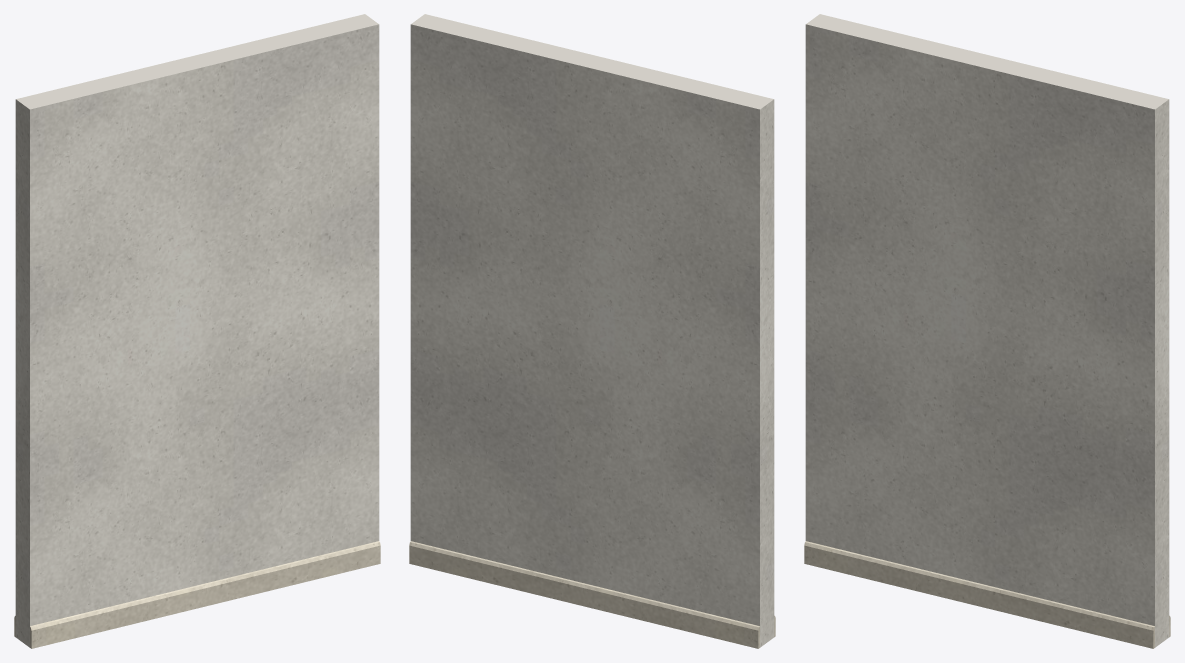
Rendered from iw_plain.glb.
3 views of the same model, side by side, from view 1: azimuth 30°, elevation 25°; view 2: azimuth 150°, elevation 25°; view 3: azimuth 330°, elevation 25° (orthographic).
Parts seen in each view (by area): view 1: iw_plain_plaster, iw_plain_trim; view 2: iw_plain_plaster, iw_plain_trim; view 3: iw_plain_plaster, iw_plain_trim.
Part boxes in pixels (x1,y1,x2,y2): iw_plain_plaster: (15, 14, 379, 647); iw_plain_trim: (14, 541, 380, 648); iw_plain_plaster: (410, 14, 774, 647); iw_plain_trim: (409, 541, 775, 648); iw_plain_plaster: (805, 14, 1169, 647); iw_plain_trim: (804, 541, 1170, 648).
Size of the model in its own units: 2 by 2.94 by 0.172.
Materials: 2 (2 with a texture image).
